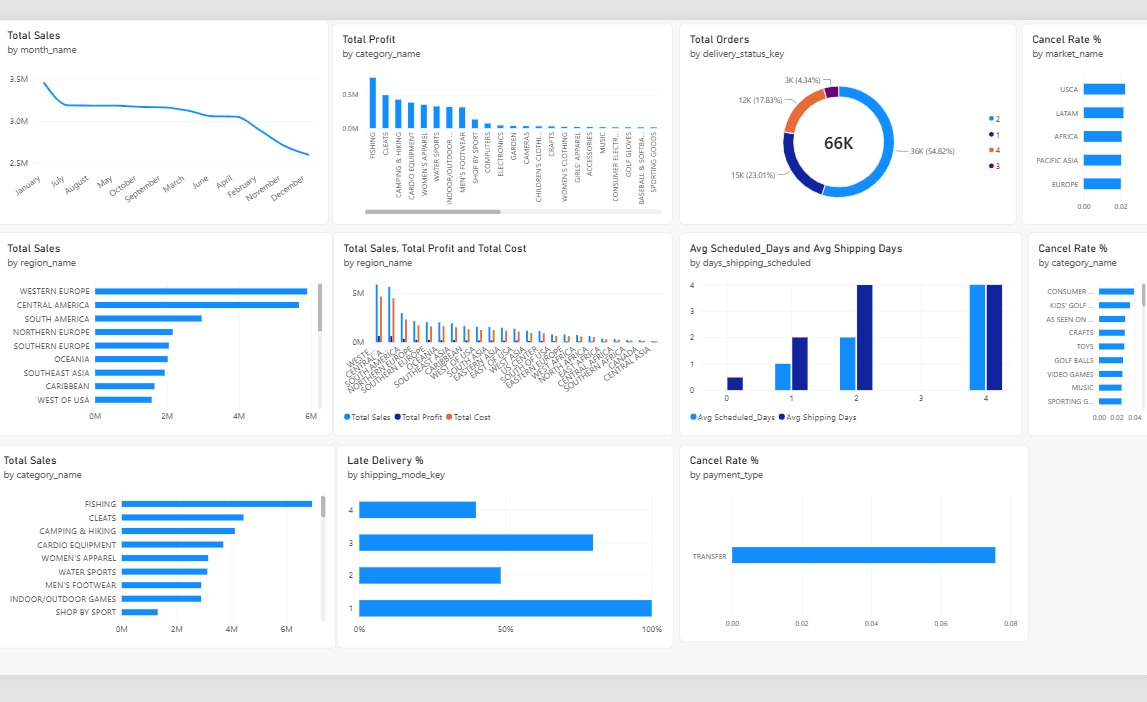

What the dashboard file says about the page in this screenshot:
{"tool":"powerbi","page":{"name":"Report","canvas":[1920,1080],"ordinal":5},"visuals":[{"type":"lineChart","fields":{"Category":["dim_date.month_name"],"Y":["Measures (2).Total Sales"]},"box":[7.5,0,546.2,337.5],"z":0},{"type":"clusteredBarChart","fields":{"Category":["dim_region.region_name"],"Y":["Measures (2).Total Sales"]},"box":[7.5,350,553.8,335],"z":1000},{"type":"clusteredBarChart","fields":{"Category":["vw_dim_product_flat.category_name"],"Y":["Measures (2).Total Sales"]},"box":[2.5,701.2,565,335],"z":2000},{"type":"columnChart","fields":{"Category":["vw_dim_product_flat.category_name"],"Y":["Measures (2).Total Profit"]},"box":[561.2,6.2,561.2,331.2],"z":3000},{"type":"clusteredColumnChart","fields":{"Category":["dim_region.region_name"],"Y":["Measures (2).Total Sales","Measures (2).Total Profit","Measures (2).Total Cost"]},"box":[562,350,560,335],"z":4000},{"type":"clusteredBarChart","fields":{"Category":["dim_shipping_mode.shipping_mode_key"],"Y":["Measures (2).Late Delivery %"]},"box":[568,701,554,335],"z":5000},{"type":"donutChart","fields":{"Category":["fact_order_items.delivery_status_key"],"Y":["Measures (2).Total Orders"]},"box":[1132.5,6.2,555,331.2],"z":6000},{"type":"clusteredColumnChart","fields":{"Category":["fact_order_items.days_shipping_scheduled"],"Y":["Measures (2).Avg Scheduled_Days","Measures (2).Avg Shipping Days"]},"box":[1132.5,350,565,335],"z":7000},{"type":"clusteredBarChart","fields":{"Category":["dim_payment_type.payment_type"],"Y":["Measures (2).Cancel Rate %"]},"box":[1132.5,701.2,575,325],"z":8000},{"type":"clusteredBarChart","fields":{"Category":["dim_market.market_name"],"Y":["Measures (2).Cancel Rate %"]},"box":[1697.5,6.2,222.5,331.2],"z":9000},{"type":"clusteredBarChart","fields":{"Category":["vw_dim_product_flat.category_name"],"Y":["Measures (2).Cancel Rate %"]},"box":[1707.5,350,212.5,335],"z":10000}]}

Visuals, with their boxes on the page's 1920x1080 design canvas (x1, y1, x2, y2). These are canvas units, not pixel positions in the 1147x702 screenshot, which may show the page scaled, cropped or inside an application window:
lineChart - dim_date.month_name x Measures (2).Total Sales: bbox(8, 0, 554, 338)
clusteredBarChart - dim_region.region_name x Measures (2).Total Sales: bbox(8, 350, 561, 685)
clusteredBarChart - vw_dim_product_flat.category_name x Measures (2).Total Sales: bbox(2, 701, 568, 1036)
columnChart - vw_dim_product_flat.category_name x Measures (2).Total Profit: bbox(561, 6, 1122, 337)
clusteredColumnChart - dim_region.region_name x Measures (2).Total Sales: bbox(562, 350, 1122, 685)
clusteredBarChart - dim_shipping_mode.shipping_mode_key x Measures (2).Late Delivery %: bbox(568, 701, 1122, 1036)
donutChart - fact_order_items.delivery_status_key x Measures (2).Total Orders: bbox(1132, 6, 1688, 337)
clusteredColumnChart - fact_order_items.days_shipping_scheduled x Measures (2).Avg Scheduled_Days: bbox(1132, 350, 1698, 685)
clusteredBarChart - dim_payment_type.payment_type x Measures (2).Cancel Rate %: bbox(1132, 701, 1708, 1026)
clusteredBarChart - dim_market.market_name x Measures (2).Cancel Rate %: bbox(1698, 6, 1920, 337)
clusteredBarChart - vw_dim_product_flat.category_name x Measures (2).Cancel Rate %: bbox(1708, 350, 1920, 685)
